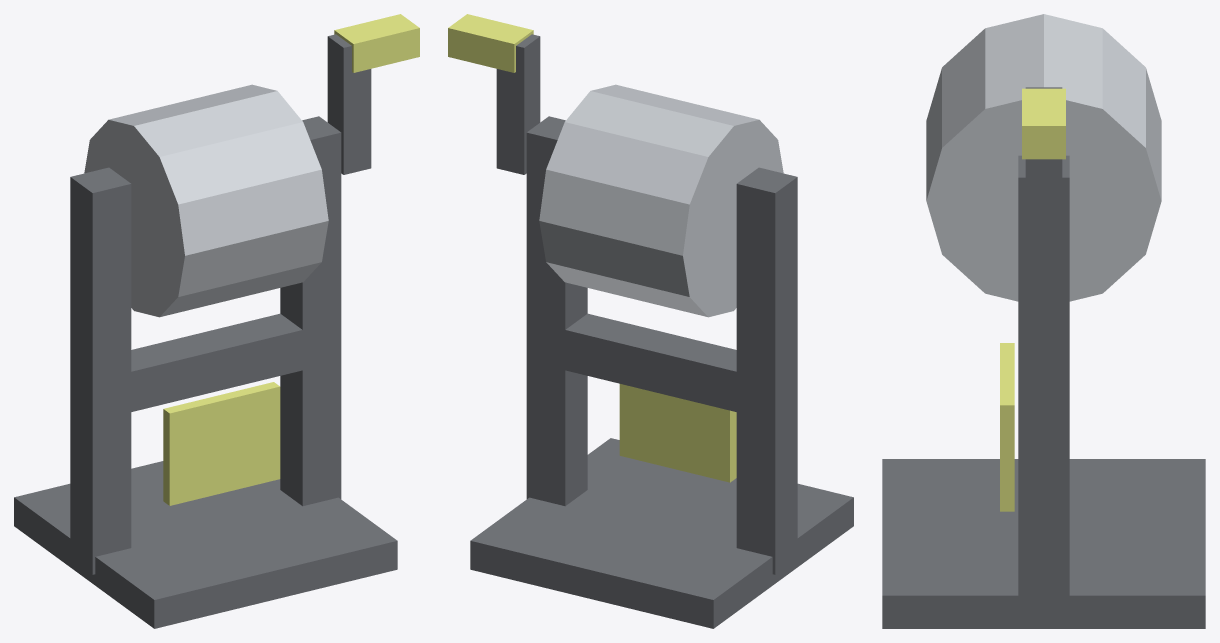
File: tennis-club-and-courts-net-winder-4b8e80d0__33646.glb
3 views of the same model, side by side, from view 1: azimuth 30°, elevation 25°; view 2: azimuth 150°, elevation 25°; view 3: azimuth 270°, elevation 25° (orthographic). The views are drawn at different scales.
Parts seen in each view (by area): view 1: net-winder, winder/steel, winder/charcoal, winder/yellow; view 2: net-winder, winder/steel, winder/charcoal, winder/yellow; view 3: net-winder, winder/steel, winder/charcoal, winder/yellow.
Part boxes in pixels (bbox=[...]): net-winder: bbox=[14, 116, 397, 628]; winder/steel: bbox=[84, 84, 328, 317]; winder/charcoal: bbox=[327, 34, 371, 174]; winder/yellow: bbox=[334, 14, 419, 72]; net-winder: bbox=[470, 116, 853, 628]; winder/steel: bbox=[539, 84, 783, 317]; winder/charcoal: bbox=[496, 34, 540, 174]; winder/yellow: bbox=[448, 14, 533, 72]; net-winder: bbox=[882, 155, 1205, 628]; winder/steel: bbox=[926, 14, 1161, 301]; winder/charcoal: bbox=[1025, 87, 1062, 249]; winder/yellow: bbox=[1022, 88, 1065, 159].
Bounding box in the file's own units: 0.595 × 0.825 × 0.44.
